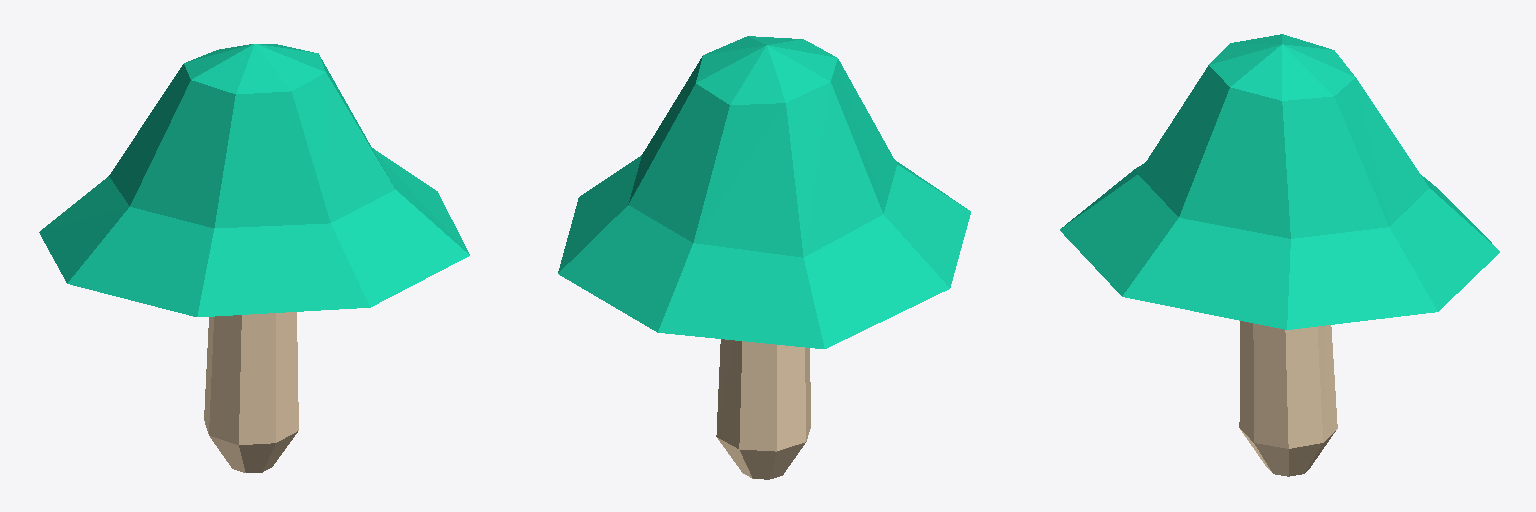
The model's file is bluemushroom.obj.
3 views of the same model, side by side, from view 1: azimuth 30°, elevation 25°; view 2: azimuth 150°, elevation 25°; view 3: azimuth 270°, elevation 25° (orthographic).
Bounding box in the file's own units: 1.31 × 1.43 × 1.35.